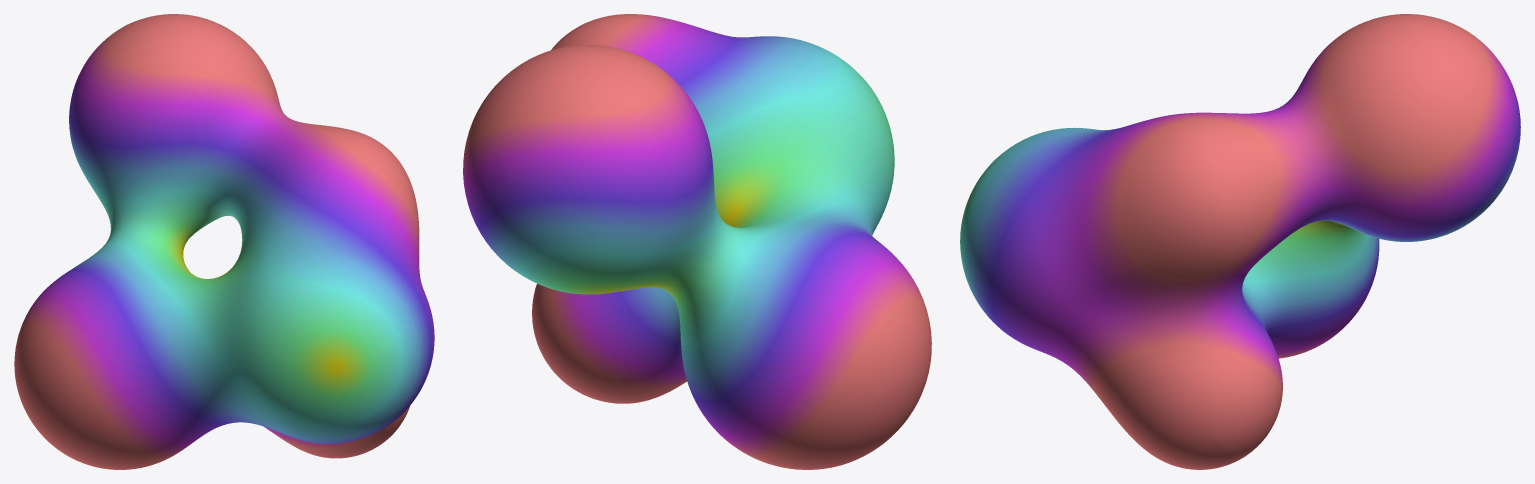
Rendered from Blob.164ee588.glb.
3 views of the same model, side by side, from view 1: azimuth 30°, elevation 25°; view 2: azimuth 150°, elevation 25°; view 3: azimuth 270°, elevation 25° (orthographic). The views are drawn at different scales.
Parts seen in each view (by area): view 1: Blob; view 2: Blob; view 3: Blob.
Part boxes in pixels (left/top/right/bottom): Blob: left=14, top=14, right=434, bottom=469; Blob: left=463, top=14, right=931, bottom=469; Blob: left=960, top=14, right=1520, bottom=469.
Bounding box in the file's own units: 0.1241 × 0.1283 × 0.162.
1 material, 1 textured.
